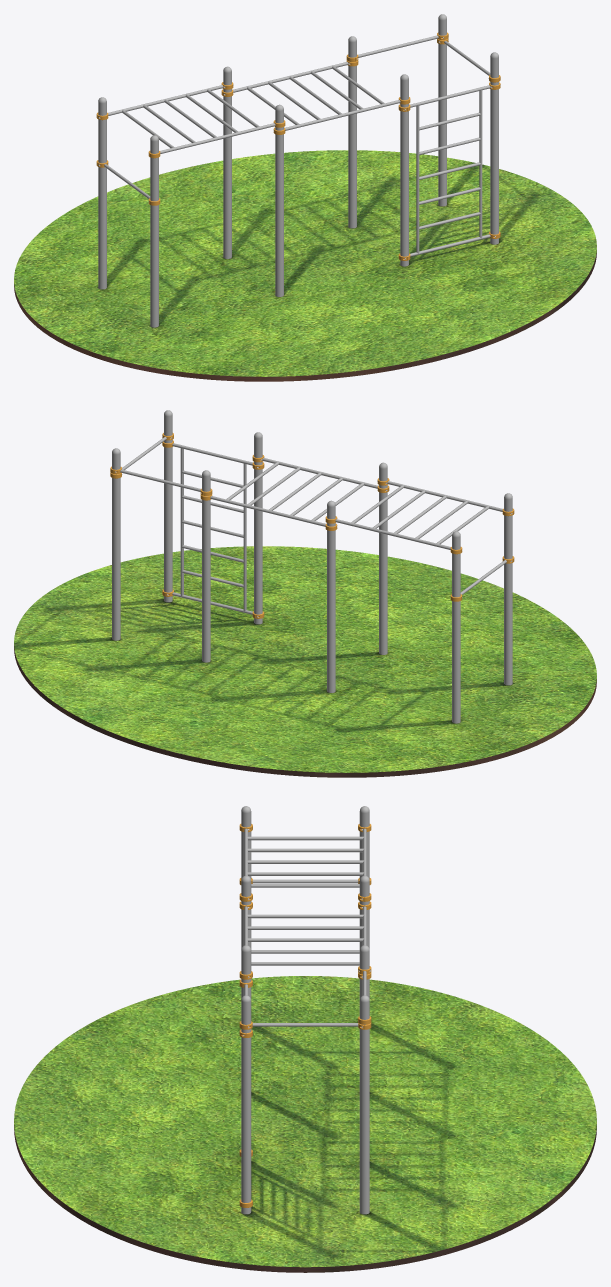
3 renders of one model, top to bottom at view 1: azimuth 30°, elevation 25°; view 2: azimuth 150°, elevation 25°; view 3: azimuth 270°, elevation 25°, orthographic. The views are drawn at different scales.
Parts seen in each view (by area): view 1: Circle002, Metall, GW-305; view 2: Circle002, Metall, GW-305; view 3: Circle002, Metall, GW-305.
Part boxes in pixels (box(x1,y1,x2,y2)): Circle002: box(14, 150, 596, 381); Metall: box(98, 14, 498, 327); GW-305: box(96, 32, 500, 260); Circle002: box(14, 546, 596, 777); Metall: box(112, 410, 512, 723); GW-305: box(110, 433, 514, 618); Circle002: box(14, 976, 596, 1272); Metall: box(241, 806, 369, 1214); GW-305: box(239, 824, 371, 1207).
Bounding box in the file's own units: 7.5 × 2.67 × 6.34.
4 materials, 1 textured.
